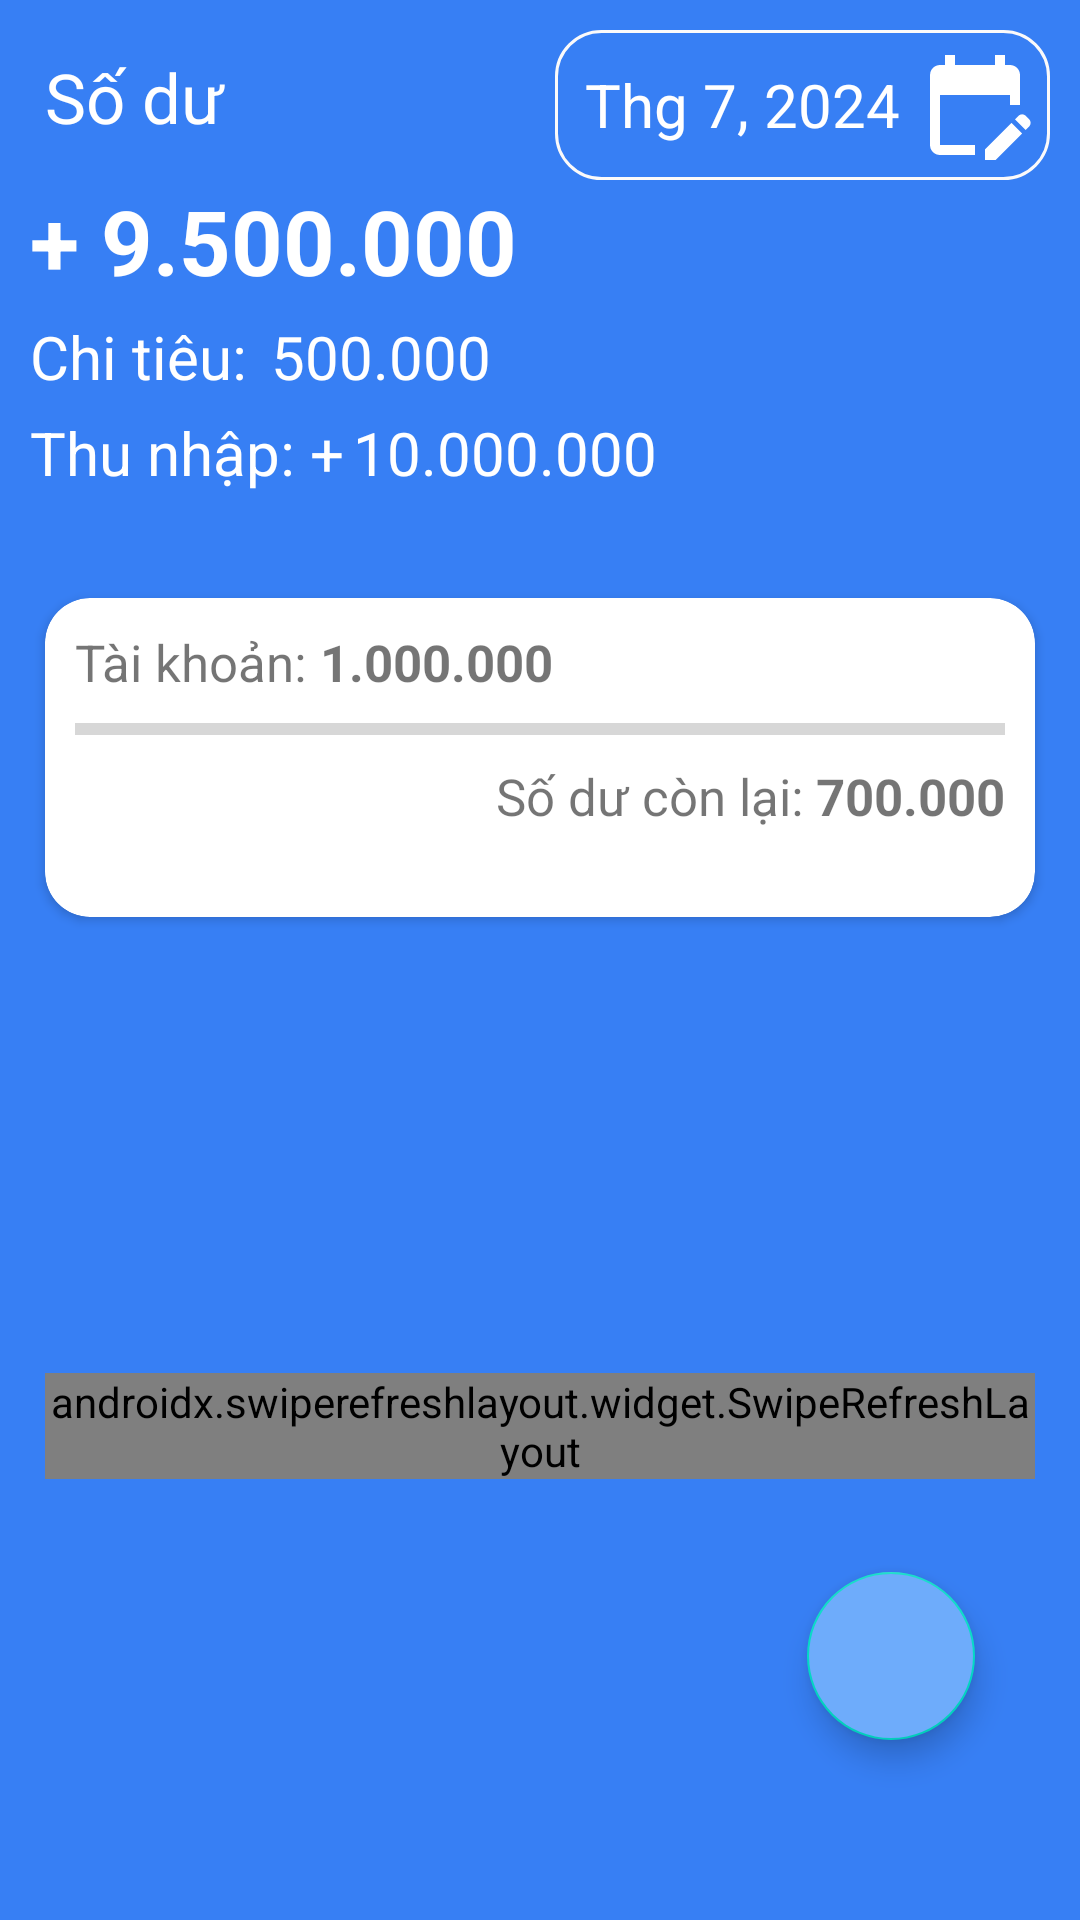

Locate icon controls on the screen. Image size 1080 × 1920, boxes as (x1, y1, x2, y2).
calendar: (930, 55, 1031, 160)
